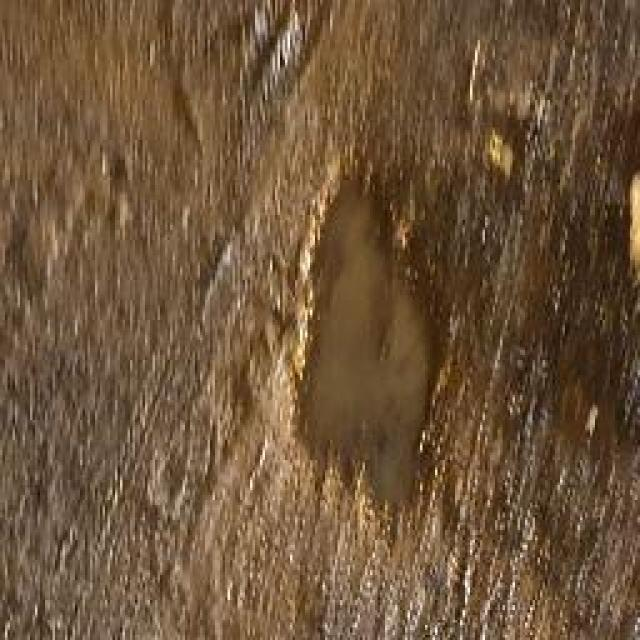stagnation: (310, 210, 430, 500)
